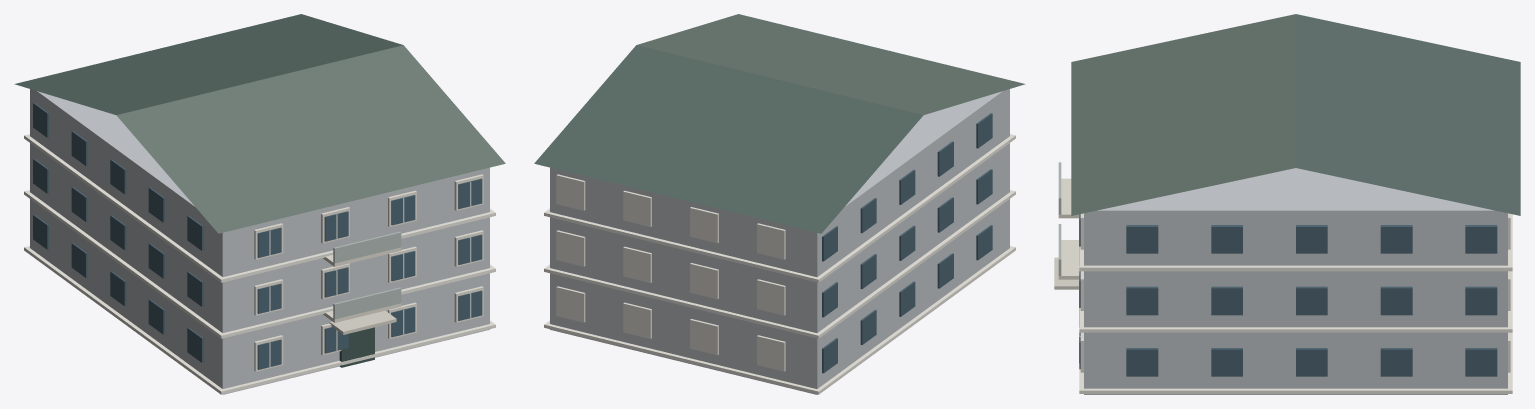
The picture shows the model from 3 angles, left to right: view 1: azimuth 30°, elevation 25°; view 2: azimuth 150°, elevation 25°; view 3: azimuth 270°, elevation 25°; orthographic projection. The views are drawn at different scales.
Size of the model in its own units: 17.2 by 12.1 by 22.
